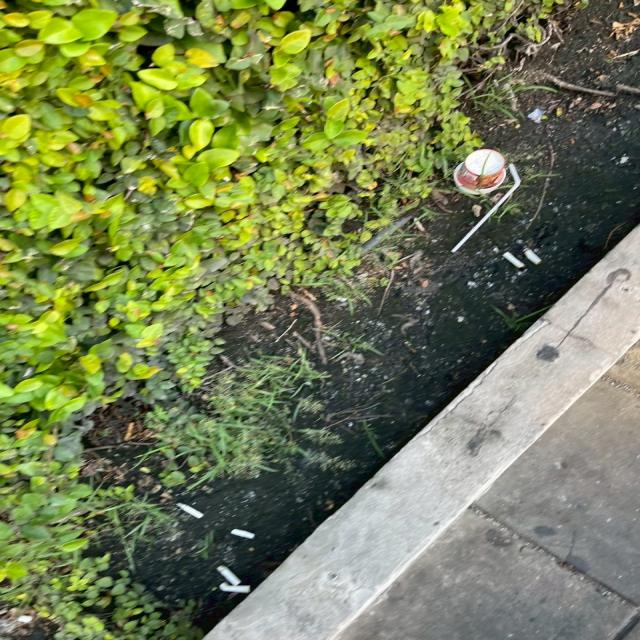plastic cup: (446, 142, 512, 189)
